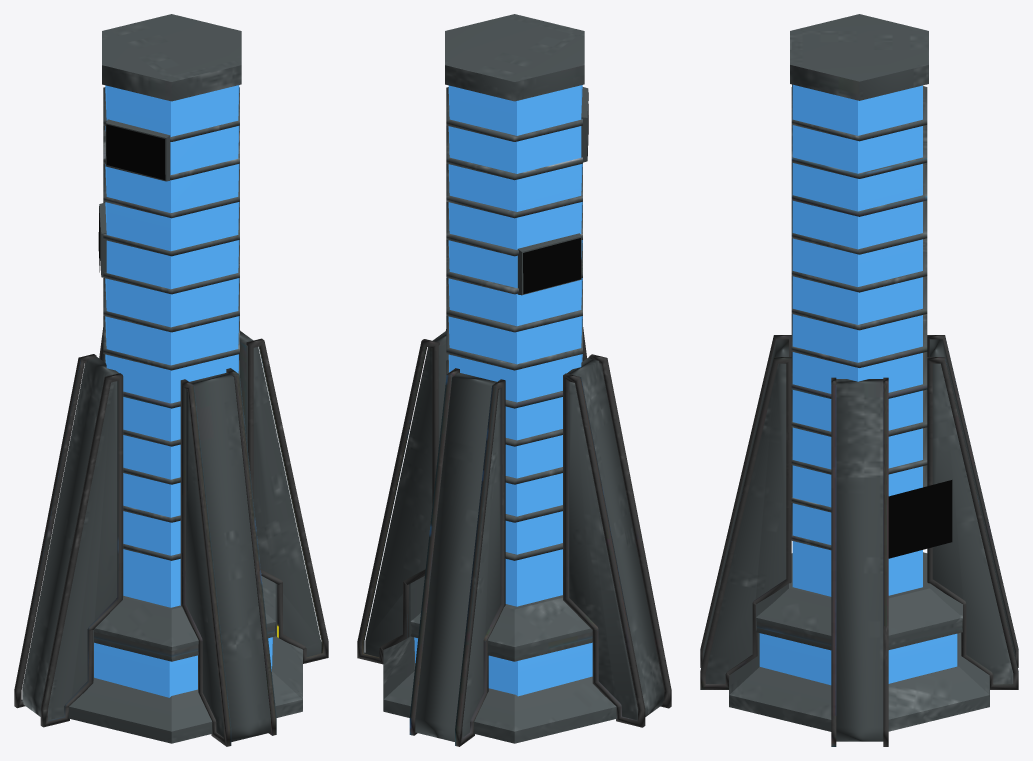
Rendered from BLD1310006.fbx.
3 views of the same model, side by side, from view 1: azimuth 30°, elevation 25°; view 2: azimuth 150°, elevation 25°; view 3: azimuth 270°, elevation 25° (orthographic).
Visible parts, largest first — view 1: smBLD1310006; view 2: smBLD1310006; view 3: smBLD1310006.
Boxes of the visible parts, x1,y1,x2,y2 form: smBLD1310006: (14, 14, 328, 746); smBLD1310006: (357, 14, 671, 746); smBLD1310006: (700, 14, 1018, 746).
Size of the model in its own units: 1466 by 3114 by 1425.
Materials: 4 (1 with a texture image).
